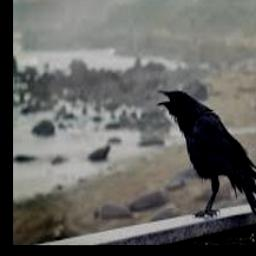Crow: (156, 87, 256, 220)
